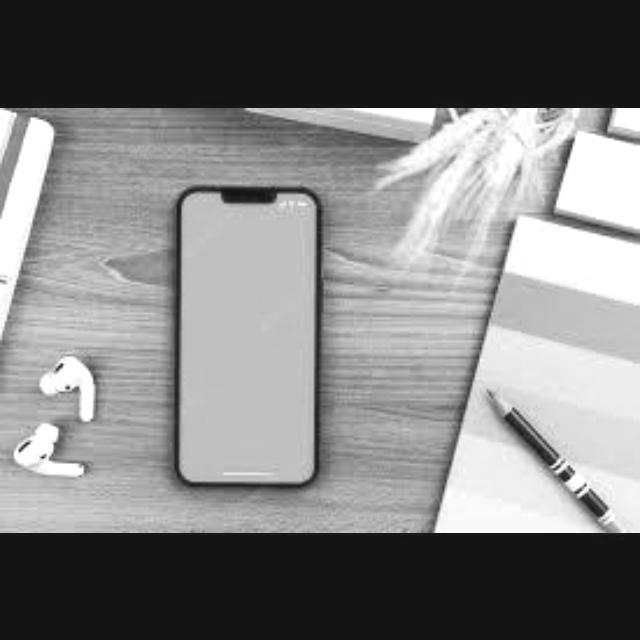fake: (180, 181, 314, 494)
